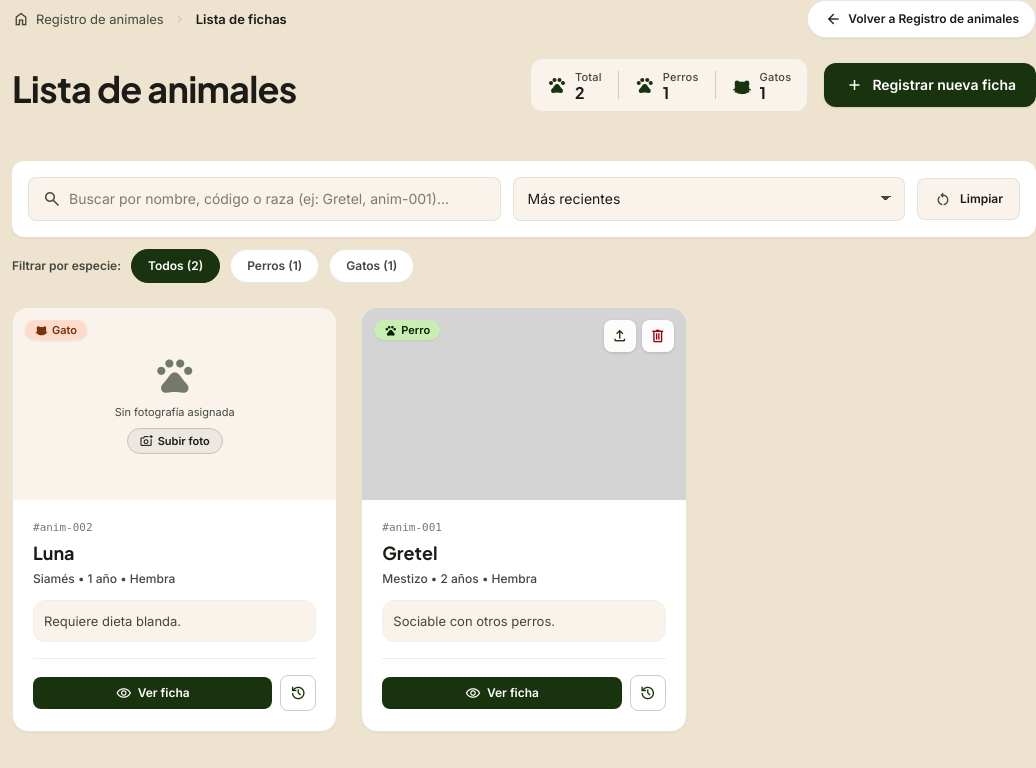
Test: RegistroFichasPage › ordena las fichas por nombre
Expected: the heading "Gretel" is shown, 382,541 -> 438,564
Select "Nombre (A-Z)" in the dropdown named "Ordenar fichas" at (709, 199), box 512,177 -> 905,221
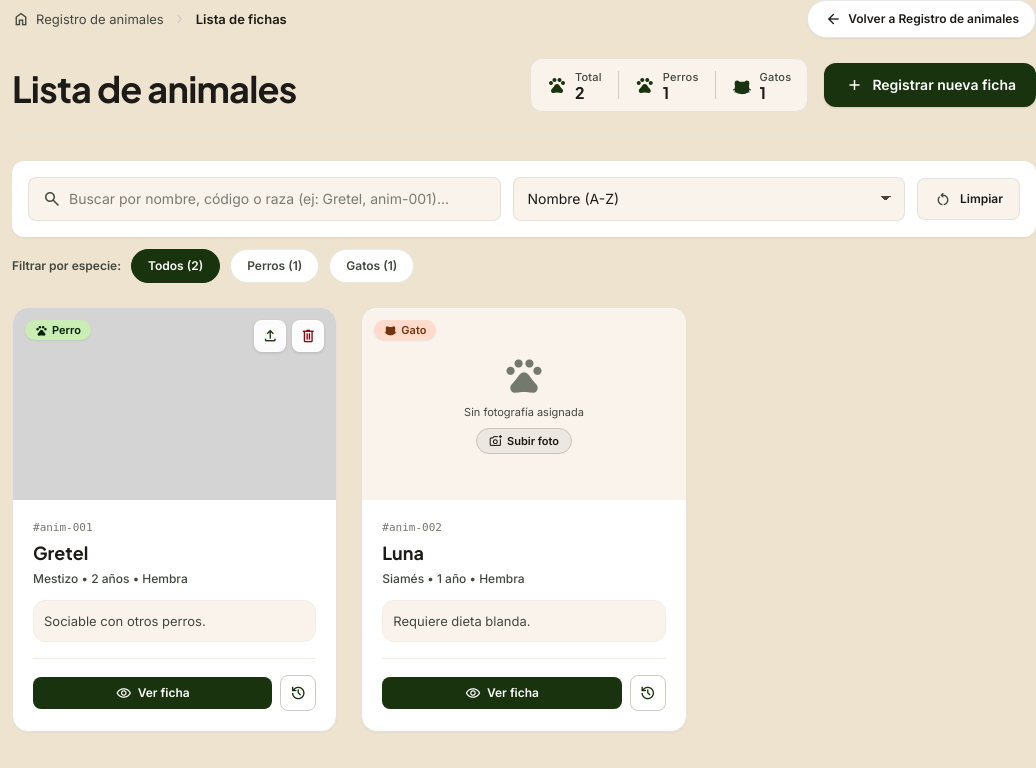
Result: the headings read "Gretel", "Luna", in this order at 33,541 -> 88,564; 382,541 -> 424,564
